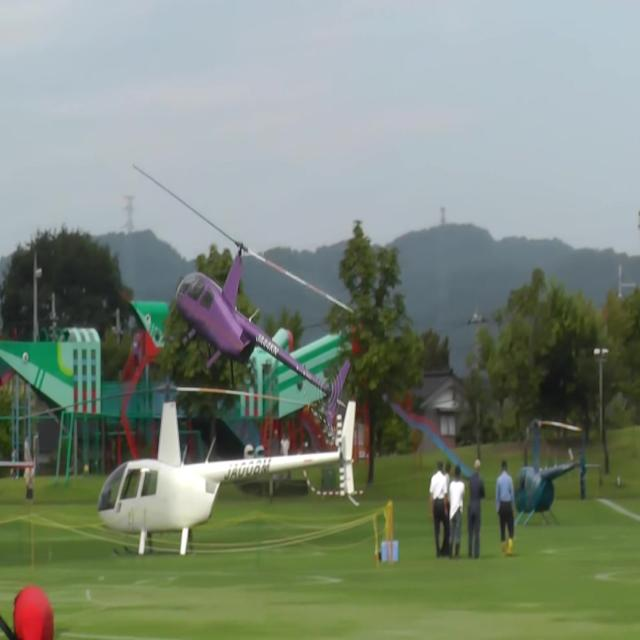CIV_HELO: (173, 237, 352, 439)
